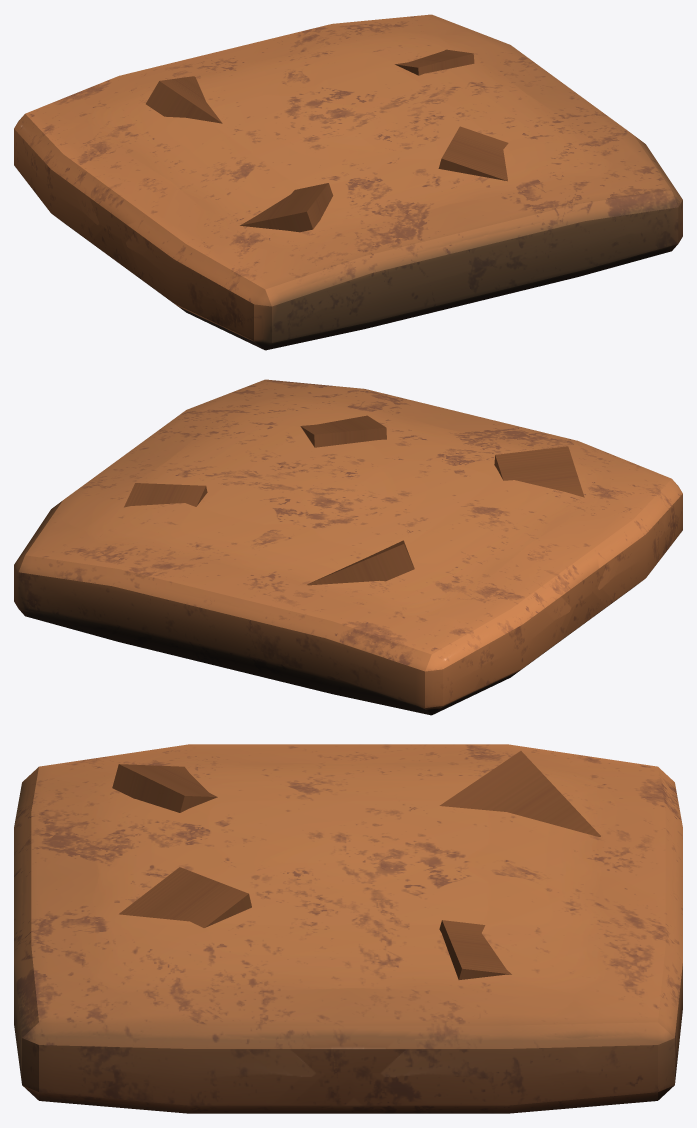
File: Cookie.fbx
3 views of the same model, one above another, from view 1: azimuth 30°, elevation 25°; view 2: azimuth 150°, elevation 25°; view 3: azimuth 270°, elevation 25° (orthographic). The views are drawn at different scales.
Parts seen in each view (by area): view 1: pCube7; view 2: pCube7; view 3: pCube7.
Part boxes in pixels (bbox=[...]): pCube7: bbox=[14, 14, 682, 350]; pCube7: bbox=[14, 379, 682, 715]; pCube7: bbox=[14, 744, 682, 1113].
Bounding box in the file's own units: 15.52 × 3.55 × 14.79.
